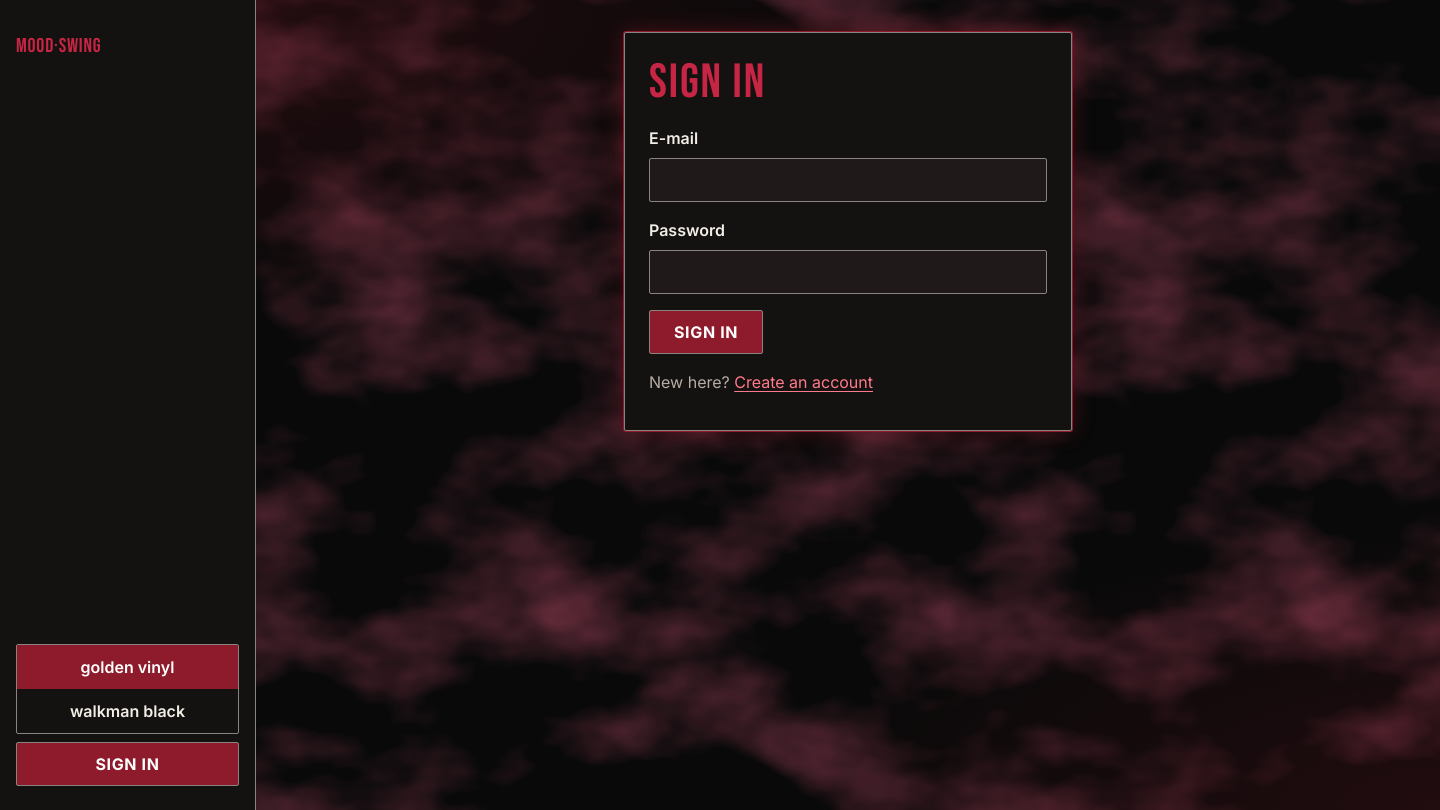
Test: authentication › signs in with the demo account and opens the quiz
This screenshot has width=1440, height=810.
Type "alice@example.com" into the field labelled "E-mail" at (848, 180), box 649,158 -> 1047,202
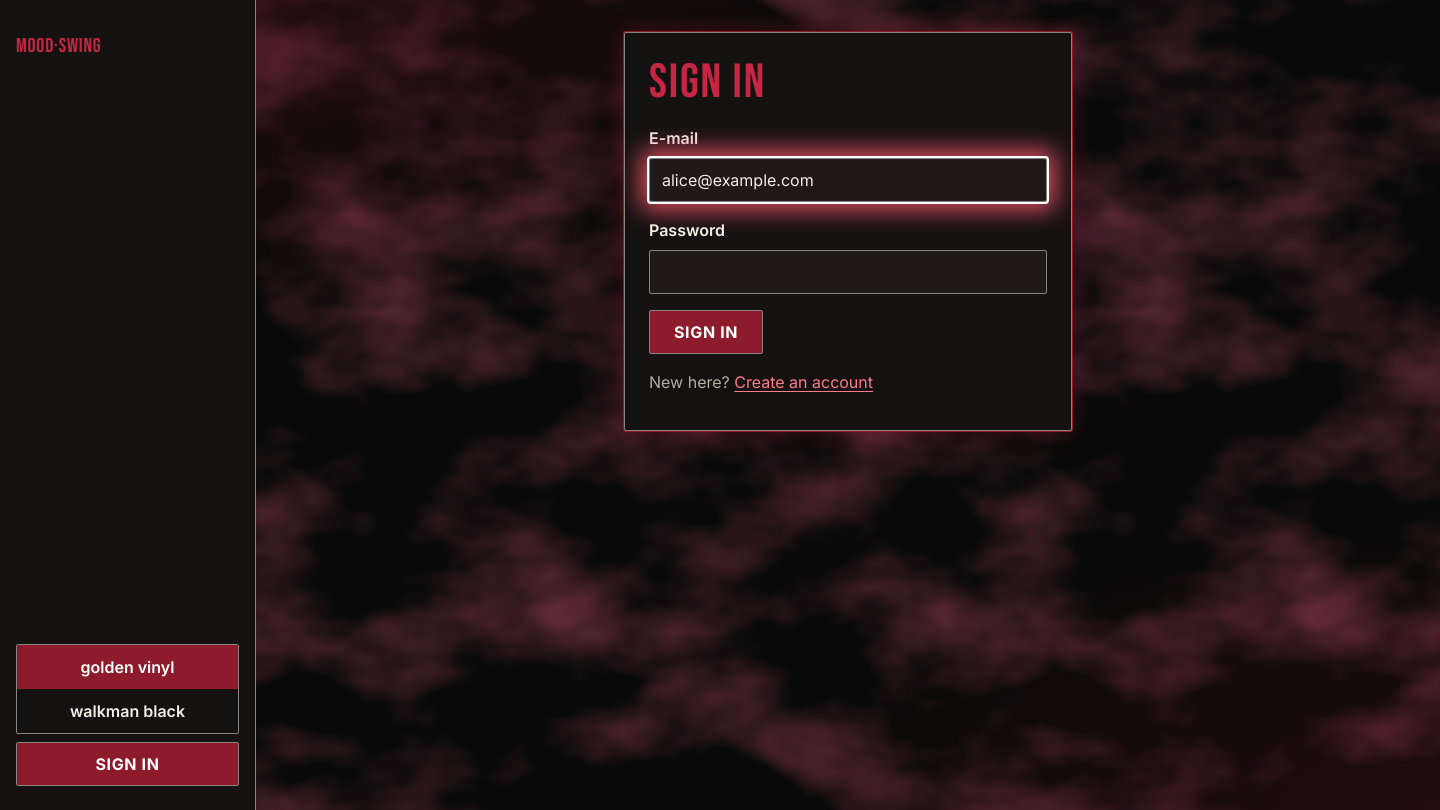
Type "correct-horse-battery" into the password field labelled "Password" at (848, 272), box 649,250 -> 1047,294
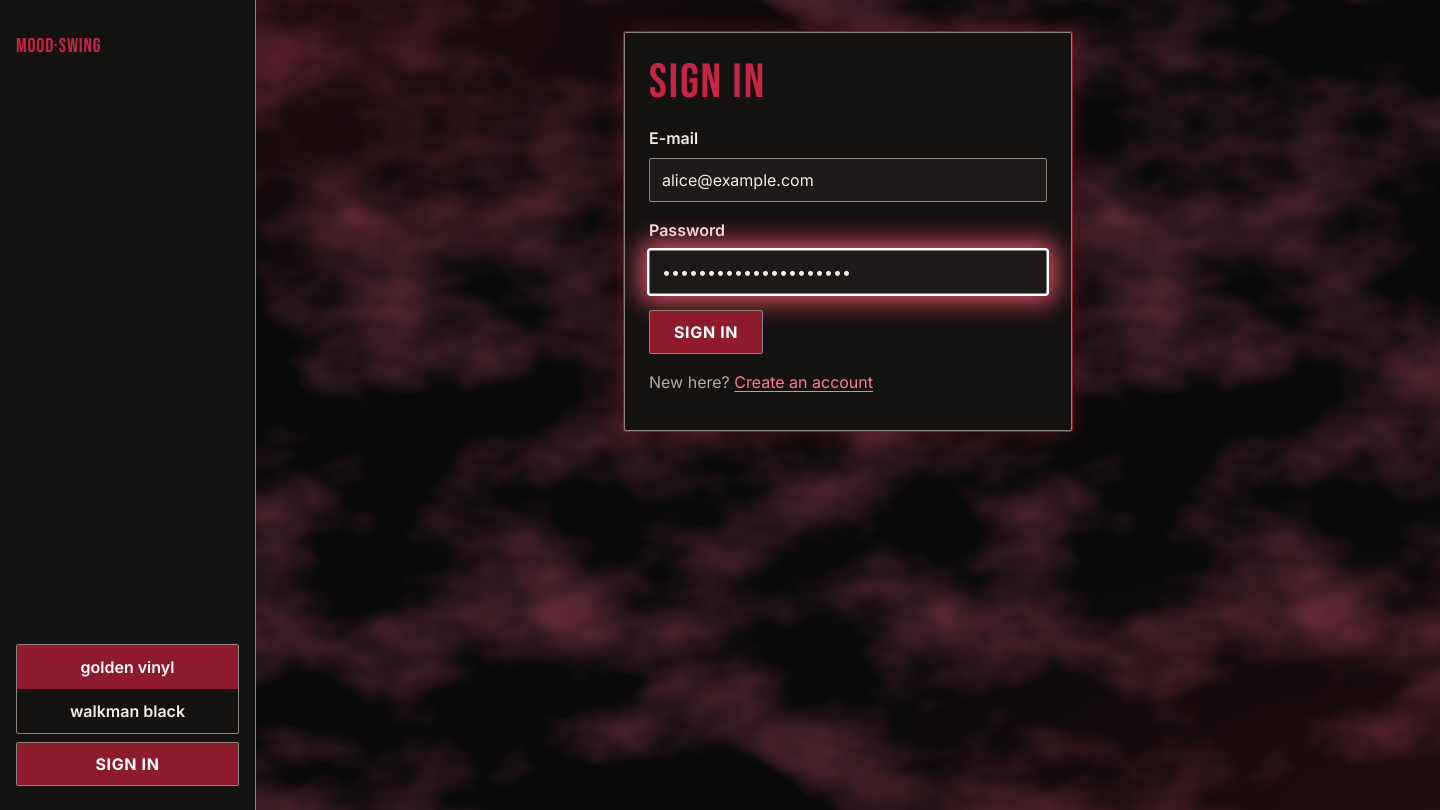
Click the button "Sign in" at (706, 332), box 649,310 -> 763,354
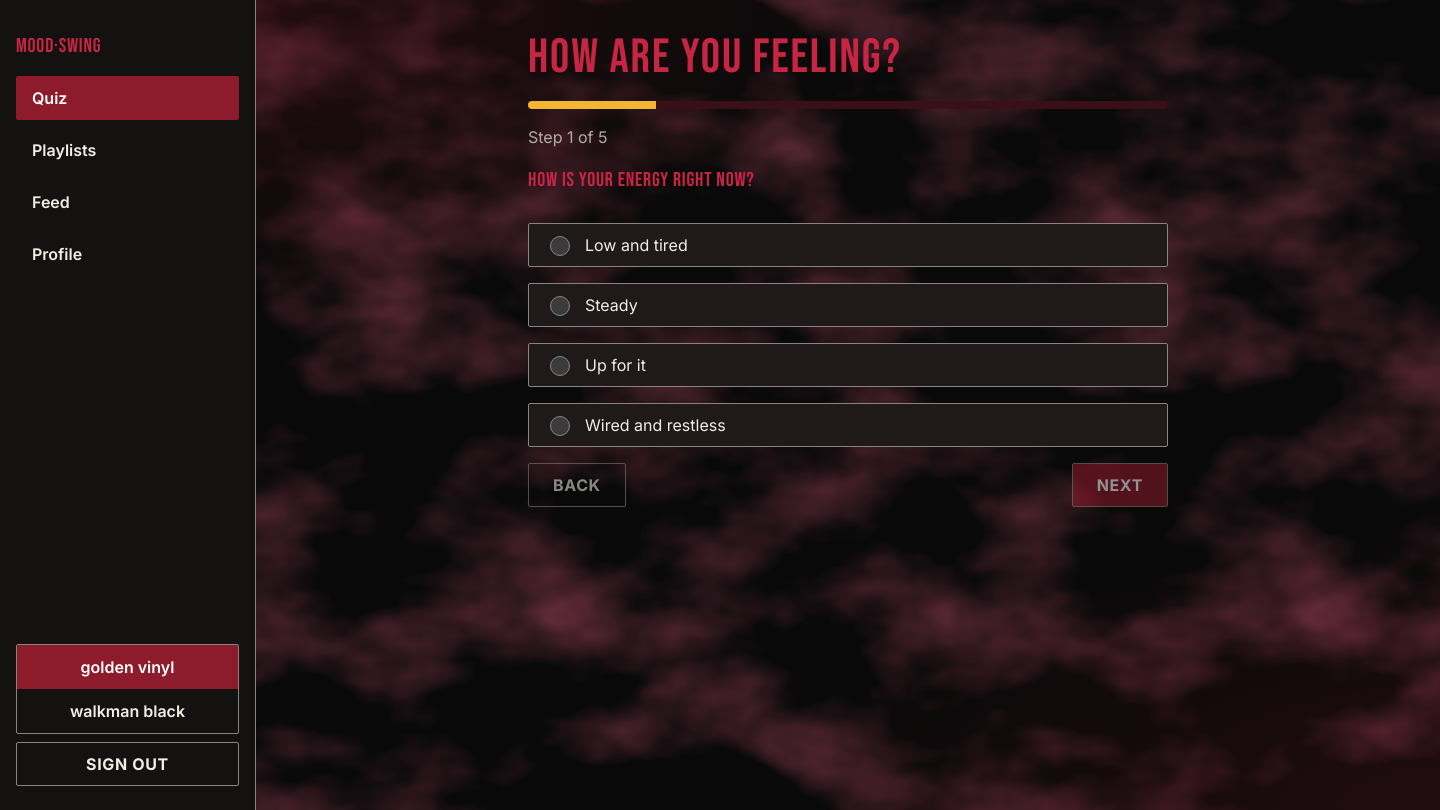
Result: the heading "How are you feeling?" is shown at 528,29 -> 902,86
